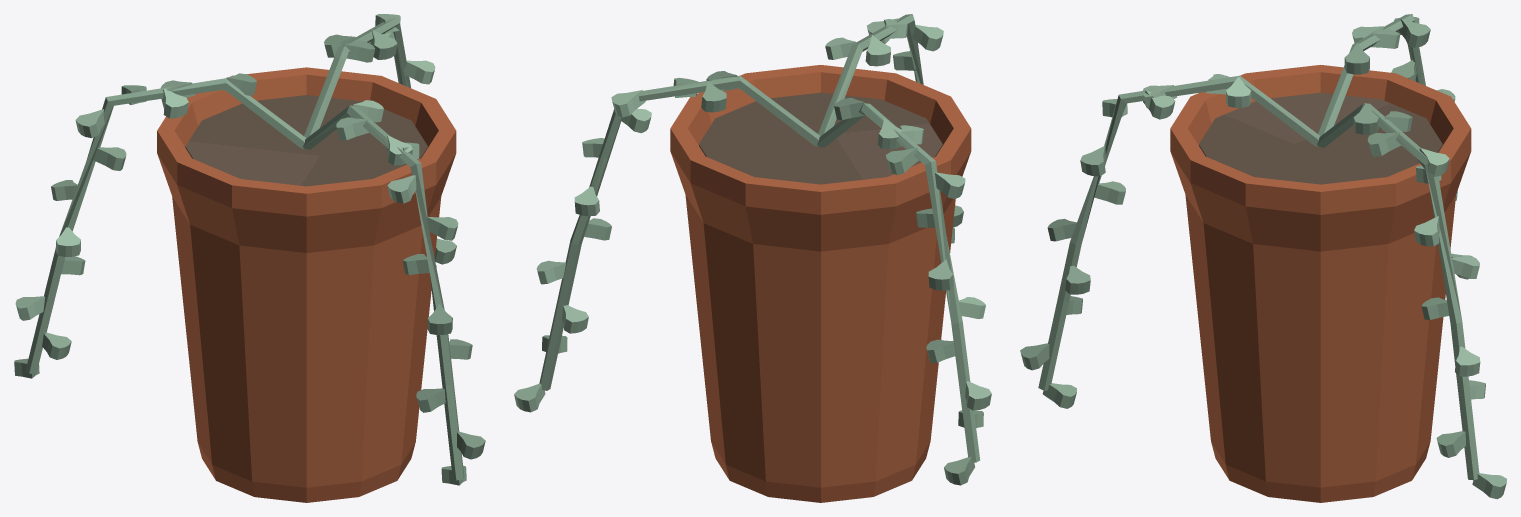
The model's file is new-morganianum.glb.
3 renders of one model, left to right at view 1: azimuth 30°, elevation 25°; view 2: azimuth 150°, elevation 25°; view 3: azimuth 270°, elevation 25°, orthographic.
Visible parts, largest first — view 1: new-morganianum/review-terra-vessel, new-morganianum/review-rooted-soil, new-morganianum/stem-014, new-morganianum/stem-027, new-morganianum/stem-001, new-morganianum/pendent-fleshy-leaf-032, new-morganianum/pendent-fleshy-leaf-019, new-morganianum/pendent-fleshy-leaf-020, new-morganianum/pendent-fleshy-leaf-025, new-morganianum/pendent-fleshy-leaf-017, new-morganianum/pendent-fleshy-leaf-038, new-morganianum/pendent-fleshy-leaf-035 (+8 smaller); view 2: new-morganianum/review-terra-vessel, new-morganianum/review-rooted-soil, new-morganianum/stem-001, new-morganianum/stem-014, new-morganianum/stem-027, new-morganianum/pendent-fleshy-leaf-013, new-morganianum/pendent-fleshy-leaf-026, new-morganianum/pendent-fleshy-leaf-018, new-morganianum/pendent-fleshy-leaf-005, new-morganianum/pendent-fleshy-leaf-032, new-morganianum/pendent-fleshy-leaf-019, new-morganianum/pendent-fleshy-leaf-024 (+8 smaller); view 3: new-morganianum/review-terra-vessel, new-morganianum/review-rooted-soil, new-morganianum/stem-027, new-morganianum/stem-001, new-morganianum/stem-014, new-morganianum/pendent-fleshy-leaf-013, new-morganianum/pendent-fleshy-leaf-018, new-morganianum/pendent-fleshy-leaf-039, new-morganianum/pendent-fleshy-leaf-033, new-morganianum/pendent-fleshy-leaf-004, new-morganianum/pendent-fleshy-leaf-038, new-morganianum/pendent-fleshy-leaf-007 (+9 smaller).
Boxes of the visible parts, x1,y1,x2,y2 form: new-morganianum/review-terra-vessel: (157,67,456,502); new-morganianum/review-rooted-soil: (185,95,427,186); new-morganianum/stem-014: (25,78,306,374); new-morganianum/stem-027: (303,105,464,480); new-morganianum/stem-001: (304,18,410,138); new-morganianum/pendent-fleshy-leaf-032: (387,175,416,203); new-morganianum/pendent-fleshy-leaf-019: (75,109,104,138); new-morganianum/pendent-fleshy-leaf-020: (93,147,126,170); new-morganianum/pendent-fleshy-leaf-025: (42,332,71,359); new-morganianum/pendent-fleshy-leaf-017: (161,88,188,118); new-morganianum/pendent-fleshy-leaf-038: (457,431,485,459); new-morganianum/pendent-fleshy-leaf-035: (427,304,452,335); new-morganianum/review-terra-vessel: (670,65,971,502); new-morganianum/review-rooted-soil: (699,92,942,184); new-morganianum/stem-001: (539,75,820,390); new-morganianum/stem-014: (817,103,980,462); new-morganianum/stem-027: (818,14,923,135); new-morganianum/pendent-fleshy-leaf-013: (514,383,545,412); new-morganianum/pendent-fleshy-leaf-026: (944,457,974,485); new-morganianum/pendent-fleshy-leaf-018: (886,147,918,174); new-morganianum/pendent-fleshy-leaf-005: (611,90,645,117); new-morganianum/pendent-fleshy-leaf-032: (912,25,943,51); new-morganianum/pendent-fleshy-leaf-019: (935,172,965,198); new-morganianum/pendent-fleshy-leaf-024: (965,381,991,410); new-morganianum/review-terra-vessel: (1170,65,1471,502); new-morganianum/review-rooted-soil: (1199,92,1442,184); new-morganianum/stem-027: (1038,75,1320,390); new-morganianum/stem-001: (1317,103,1479,480); new-morganianum/stem-014: (1318,14,1425,135); new-morganianum/pendent-fleshy-leaf-013: (1472,473,1506,499); new-morganianum/pendent-fleshy-leaf-018: (1399,18,1430,47); new-morganianum/pendent-fleshy-leaf-039: (1042,383,1076,408); new-morganianum/pendent-fleshy-leaf-033: (1080,146,1106,176); new-morganianum/pendent-fleshy-leaf-004: (1367,132,1401,156); new-morganianum/pendent-fleshy-leaf-038: (1020,343,1049,370); new-morganianum/pendent-fleshy-leaf-007: (1414,216,1439,246).
Bounding box in the file's own units: 0.3258 × 0.2684 × 0.3074.
3 materials, 3 textured.
